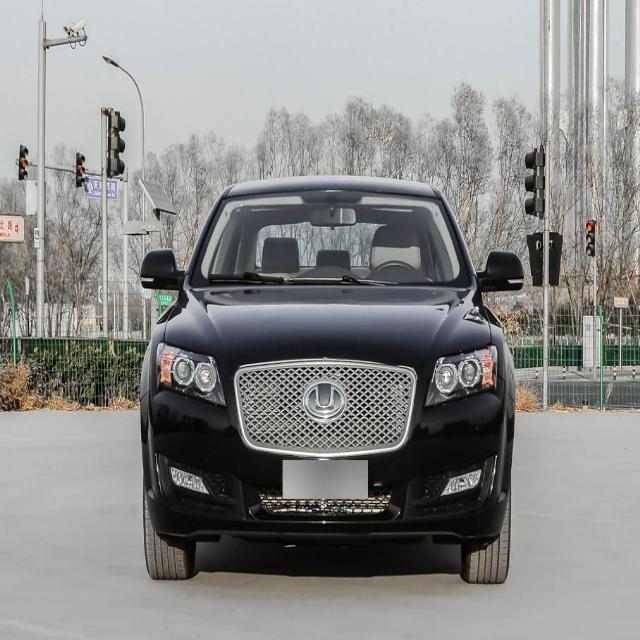front_bumper: (140, 394, 513, 536)
front_glass: (186, 187, 474, 290)
front_left_side_light: (422, 339, 500, 410)
front_left_side_mirror: (474, 248, 526, 296)
front_right_side_light: (152, 338, 226, 408)
front_right_side_mirror: (138, 246, 184, 294)
